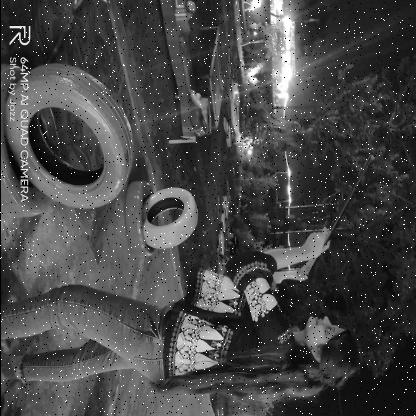rifle: (249, 152, 376, 292)
